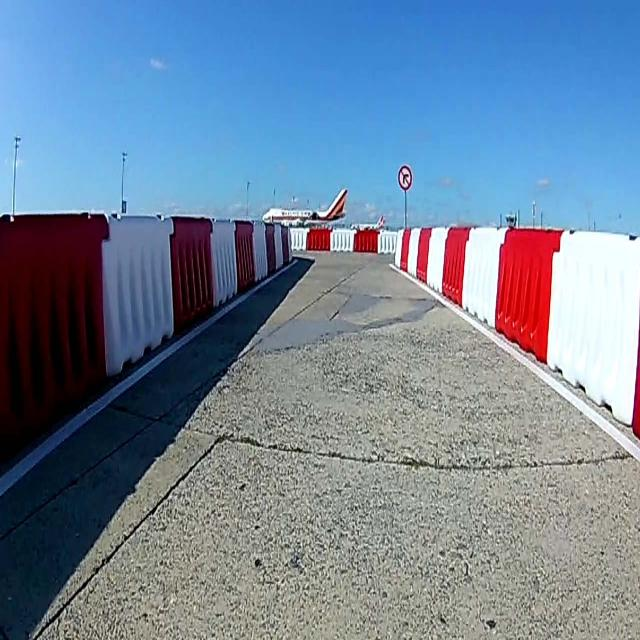sagadonulmez: (398, 164, 412, 191)
